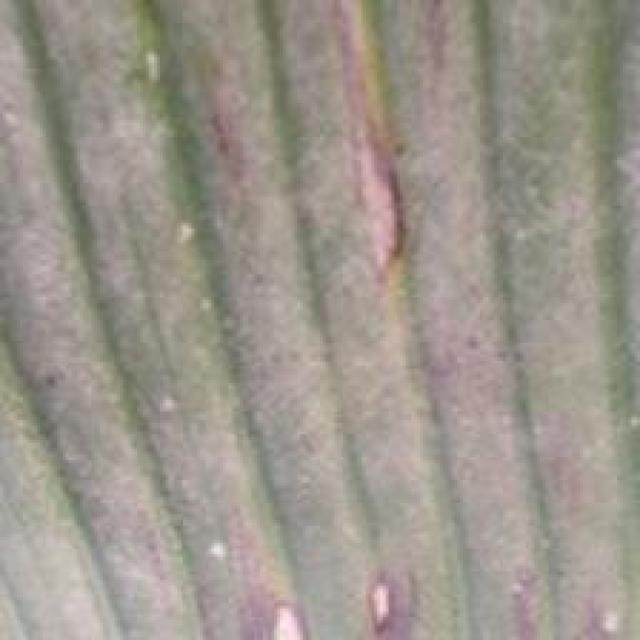Early_leaf_spot: (306, 0, 439, 294), (490, 537, 640, 640), (181, 51, 268, 208), (349, 537, 415, 640), (235, 565, 310, 640)
